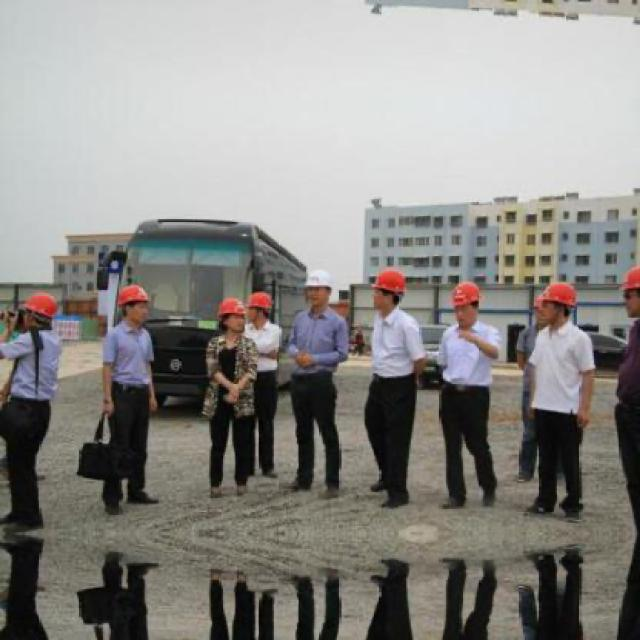con casco: (352, 255, 414, 324), (2, 286, 78, 341), (529, 284, 601, 337), (89, 280, 164, 329), (278, 264, 347, 312), (203, 294, 268, 344), (444, 276, 492, 337)
